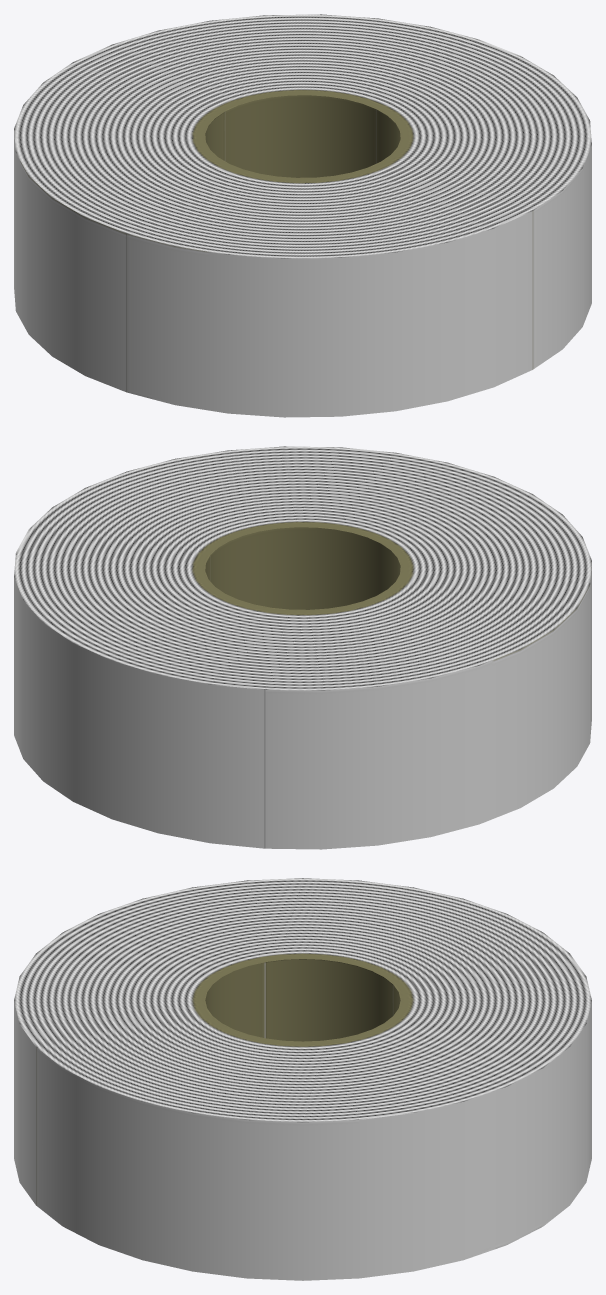
The model's file is tape_roll_medical.glb.
3 views of the same model, one above another, from view 1: azimuth 30°, elevation 25°; view 2: azimuth 150°, elevation 25°; view 3: azimuth 270°, elevation 25° (orthographic).
Parts seen in each view (by area): view 1: Circle_Baked; view 2: Circle_Baked; view 3: Circle_Baked.
Part boxes in pixels (left/top/right/bottom): Circle_Baked: left=14, top=14, right=591, bottom=417; Circle_Baked: left=14, top=446, right=591, bottom=849; Circle_Baked: left=14, top=878, right=591, bottom=1280.
Bounding box in the file's own units: 0.1502 × 0.0454 × 0.1502.
Materials: 1 (1 with a texture image).
